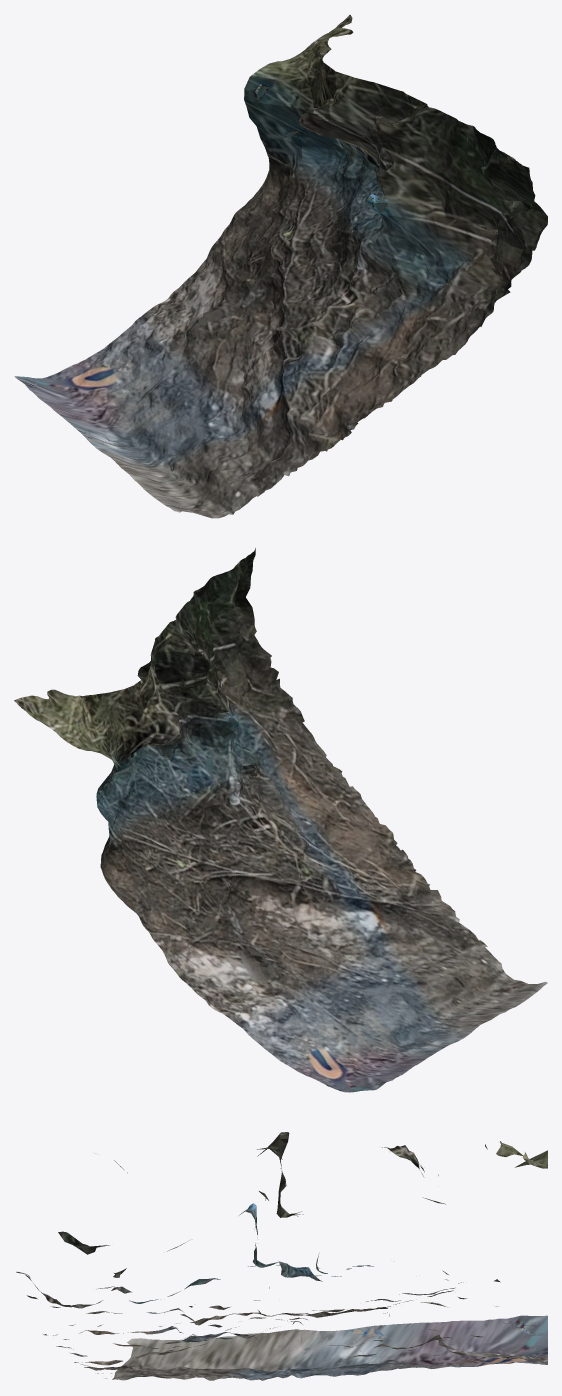
3 views of the same model, one above another, from view 1: azimuth 30°, elevation 25°; view 2: azimuth 150°, elevation 25°; view 3: azimuth 270°, elevation 25° (orthographic). The views are drawn at different scales.
Size of the model in its own units: 1.81 by 1.58 by 1.9.
2 materials, 2 textured.
